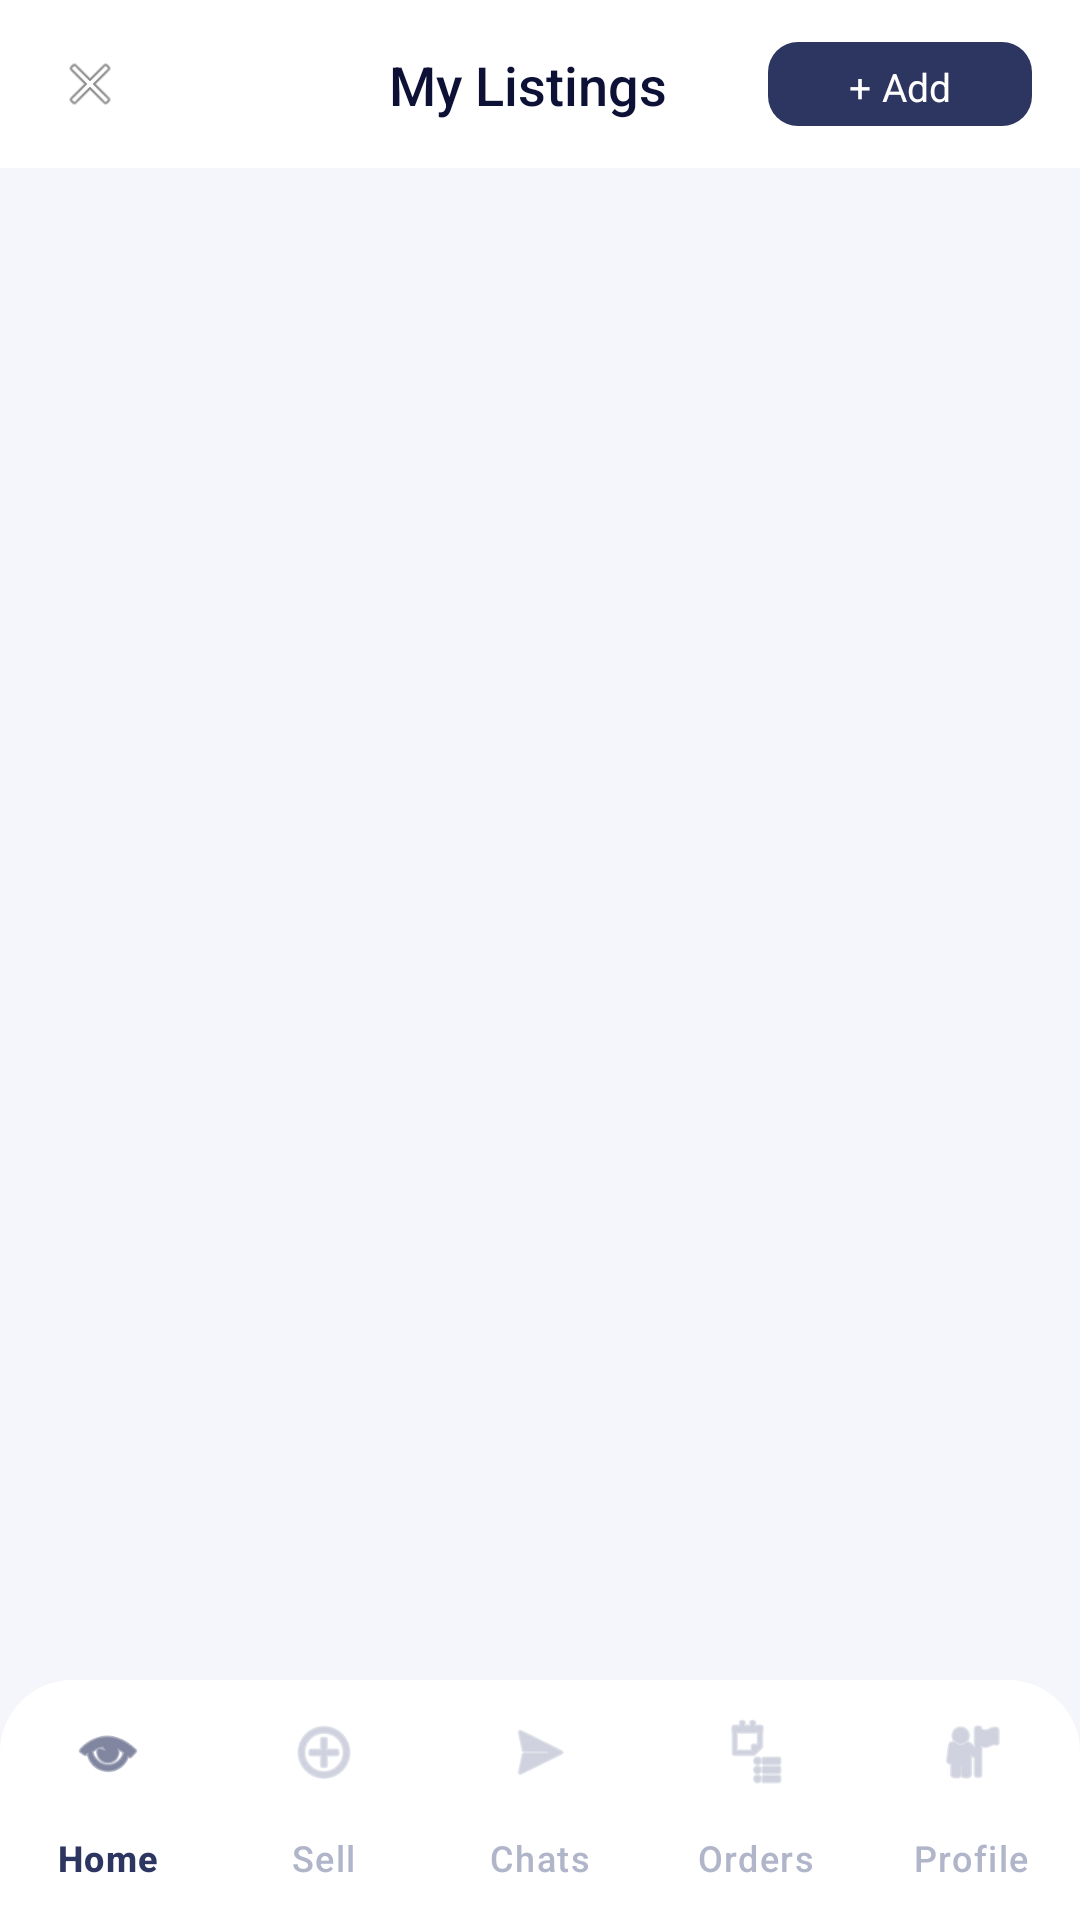

Icons on this 1080*1920 Android screen, each with the point to tap as point (x, y):
Back: point (90, 84)
